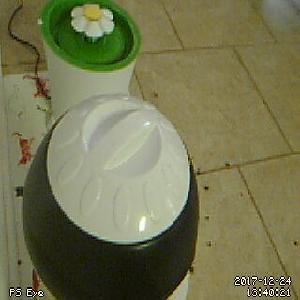fountain: (37, 1, 141, 73)
